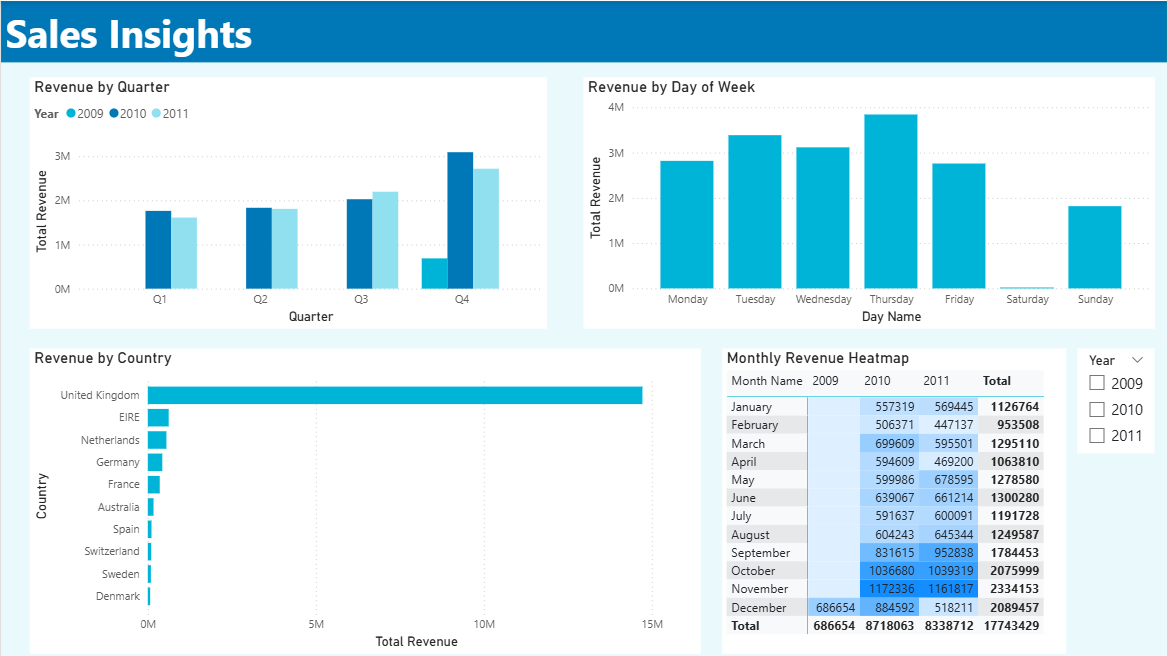

This screenshot's page, from the dashboard's own definition file:
{"tool":"powerbi","page":{"name":"Sales Insights","canvas":[1280,720],"ordinal":2},"visuals":[{"type":"shape","box":[0,0,1280.3,67.2],"z":0},{"type":"textbox","box":[0,0,1280.3,67.2],"z":1000},{"type":"clusteredColumnChart","title":"Revenue by Quarter ","fields":{"Category":["Date Table.Quarter"],"Y":["_Measures.Total Revenue"],"Series":["Date Table.Year"]},"box":[31.6,83.7,568.1,275.8],"z":2000},{"type":"clusteredColumnChart","title":"Revenue by Day of Week","fields":{"Category":["Date Table.Day Name"],"Y":["_Measures.Total Revenue"]},"box":[639.5,83.7,627.1,275.8],"z":3000},{"type":"clusteredBarChart","title":"Revenue by Country","fields":{"Category":["Online Retail.Country"],"Y":["_Measures.Total Revenue"]},"box":[31.6,381.5,736.9,312.9],"z":4000},{"type":"pivotTable","title":"Monthly Revenue Heatmap","fields":{"Rows":["Date Table.Month Name"],"Columns":["Date Table.Year"],"Values":["_Measures.Total Revenue"]},"box":[791.8,381.5,377.4,334.8],"z":5000},{"type":"slicer","fields":{"Values":["Date Table.Year"]},"box":[1181.5,381.5,85.1,115.3],"z":6000}]}

Visuals, with their boxes in screenshot pixels (x1, y1, x2, y2), scaled from the page's 1280x720 canvas onto the 1167x656 screenshot:
shape: 0/0/1166/61
textbox: 0/0/1166/61
"Revenue by Quarter " clusteredColumnChart: 29/76/547/328
"Revenue by Day of Week" clusteredColumnChart: 583/76/1155/328
"Revenue by Country" clusteredBarChart: 29/348/701/633
"Monthly Revenue Heatmap" pivotTable: 722/348/1066/653
slicer - Date Table.Year: 1077/348/1155/453
